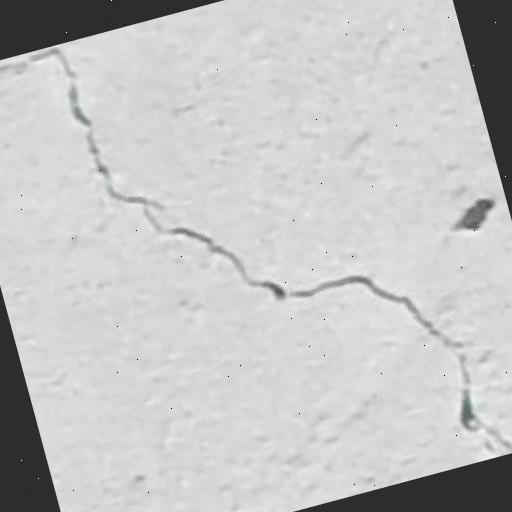spalling: (0, 41, 512, 456)
